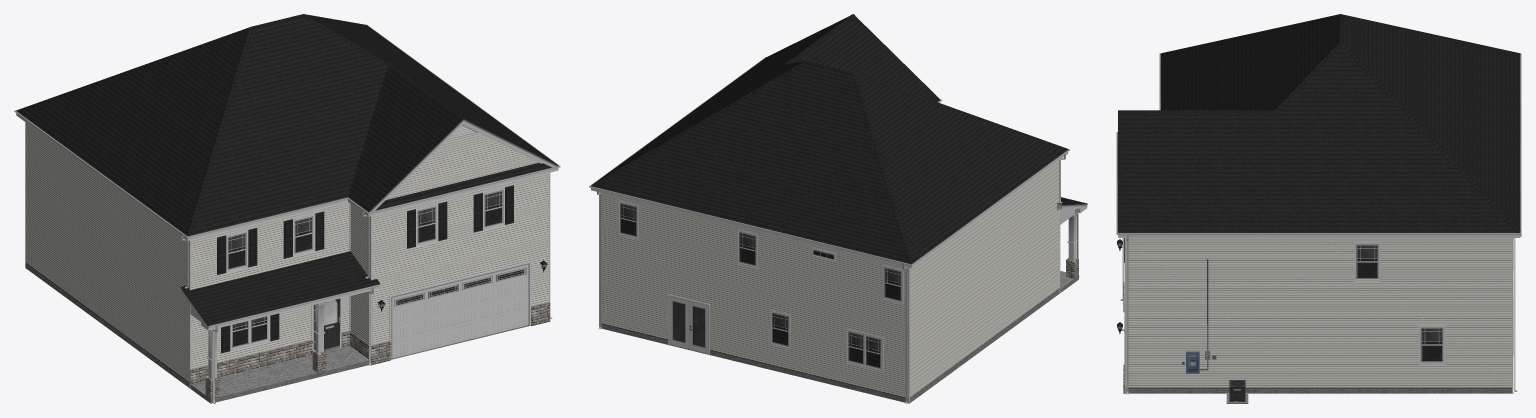
Rendered from house20_mirror1.fbx.
The picture shows the model from 3 angles, left to right: view 1: azimuth 30°, elevation 25°; view 2: azimuth 150°, elevation 25°; view 3: azimuth 270°, elevation 25°; orthographic projection. The views are drawn at different scales.
Visible parts, largest first — view 1: house20_mirror1_LOD0; view 2: house20_mirror1_LOD0; view 3: house20_mirror1_LOD0.
Boxes of the visible parts, left/top/right/bottom form: house20_mirror1_LOD0: left=14, top=14, right=560, bottom=403; house20_mirror1_LOD0: left=589, top=14, right=1087, bottom=403; house20_mirror1_LOD0: left=1116, top=14, right=1521, bottom=403.
Size of what is drawn, in the model's own units: 4.11 by 2.86 by 3.76.
